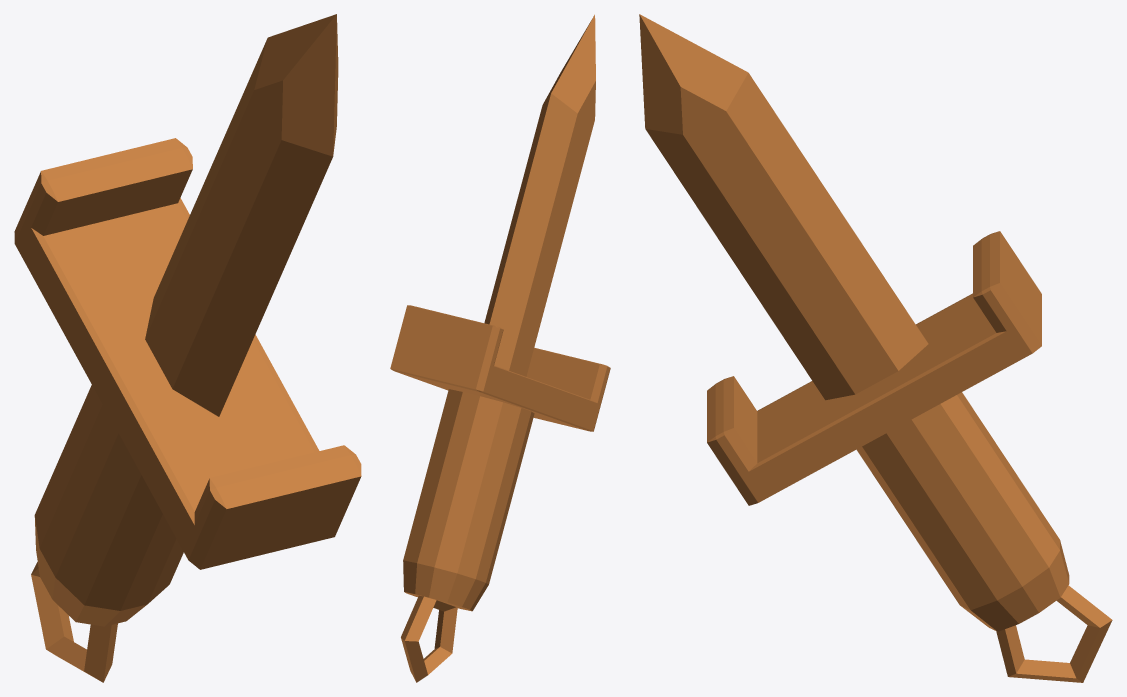
The model's file is Dagger.fbx.
3 views of the same model, side by side, from view 1: azimuth 30°, elevation 25°; view 2: azimuth 150°, elevation 25°; view 3: azimuth 270°, elevation 25° (orthographic). The views are drawn at different scales.
Parts seen in each view (by area): view 1: Cube.003; view 2: Cube.003; view 3: Cube.003.
Part boxes in pixels (x1,y1,x2,y2): Cube.003: [14, 14, 361, 682]; Cube.003: [390, 14, 610, 682]; Cube.003: [639, 14, 1112, 682].
Size of the model in its own units: 21.75 by 120 by 77.21.
